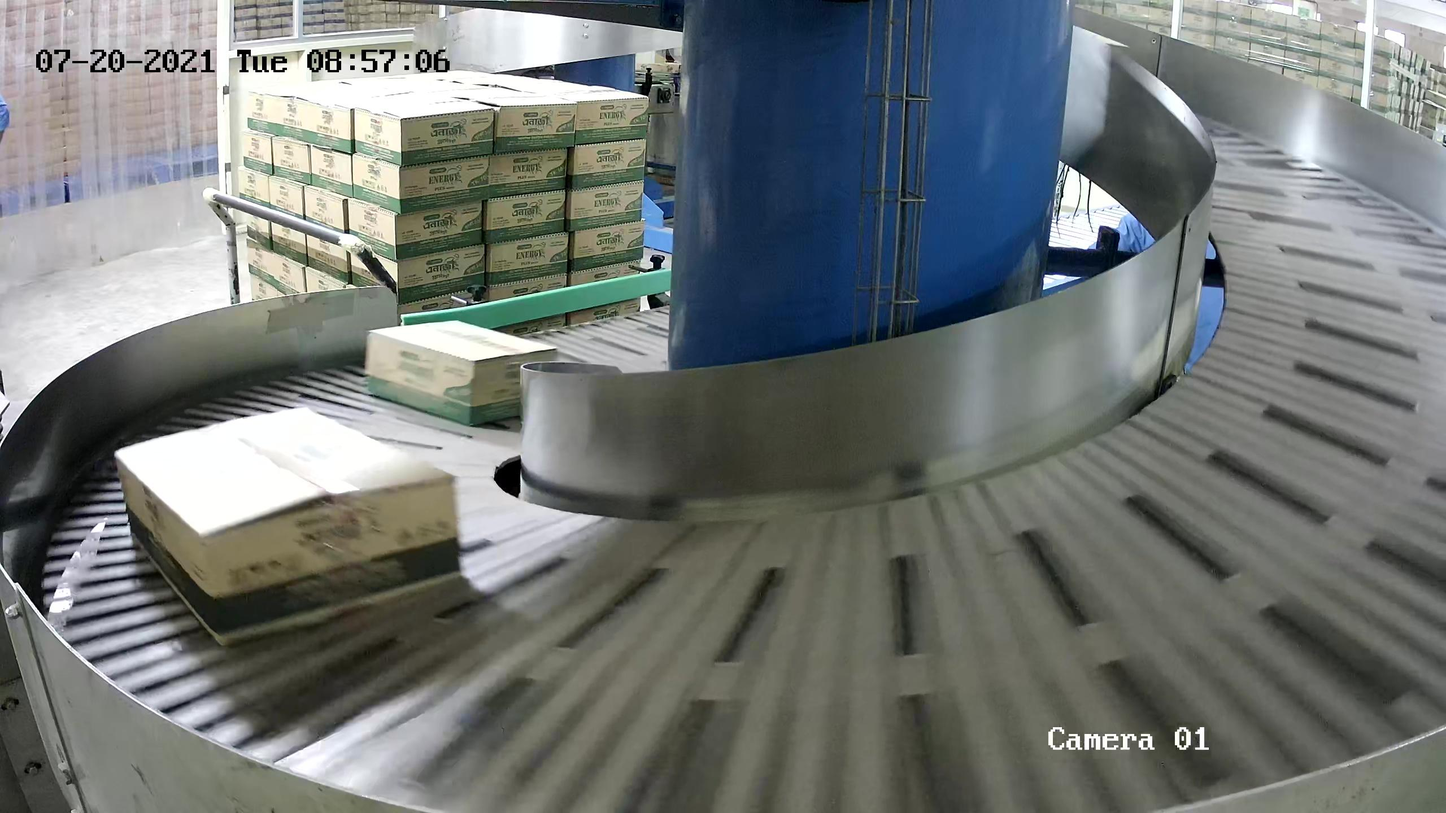Box: (114, 406, 463, 649), (365, 319, 559, 426)
